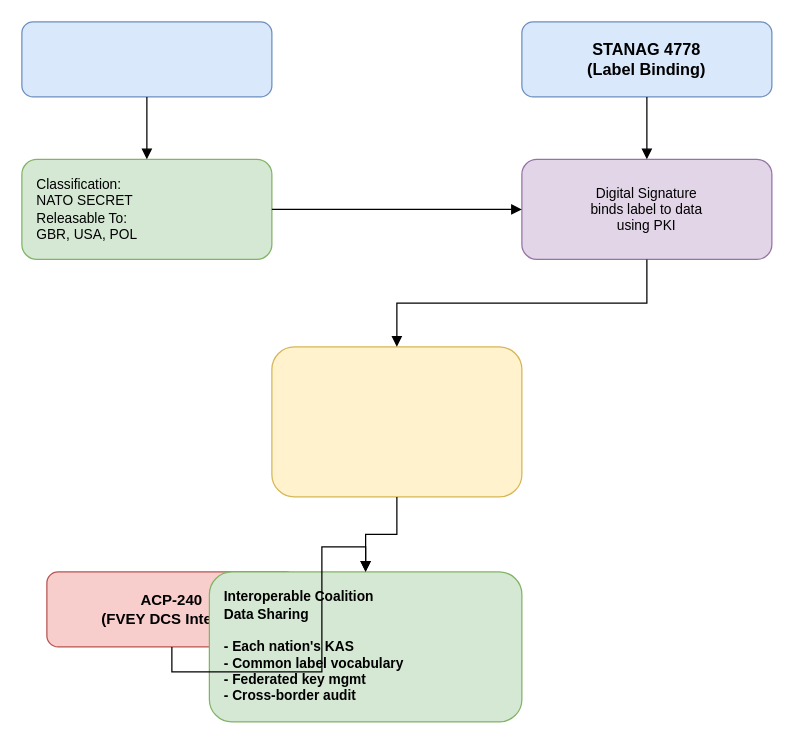
Image size: 794x744. Some labels were removed from this diagram. Each missing label, with the centre of its shape:
"STANAG 4774 (Label Syntax)" goes at (x=146, y=59).
"ZTDF Wrapper (March 2024) - Encrypted payload - Labels - KAS refs - ABAC policy" goes at (x=396, y=421).
